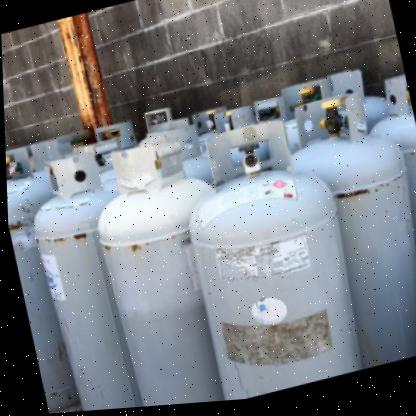gas-tank: (165, 99, 374, 406), (77, 119, 275, 411), (8, 133, 185, 415), (266, 77, 415, 385), (4, 130, 110, 415), (341, 65, 415, 368), (388, 276, 415, 364)
